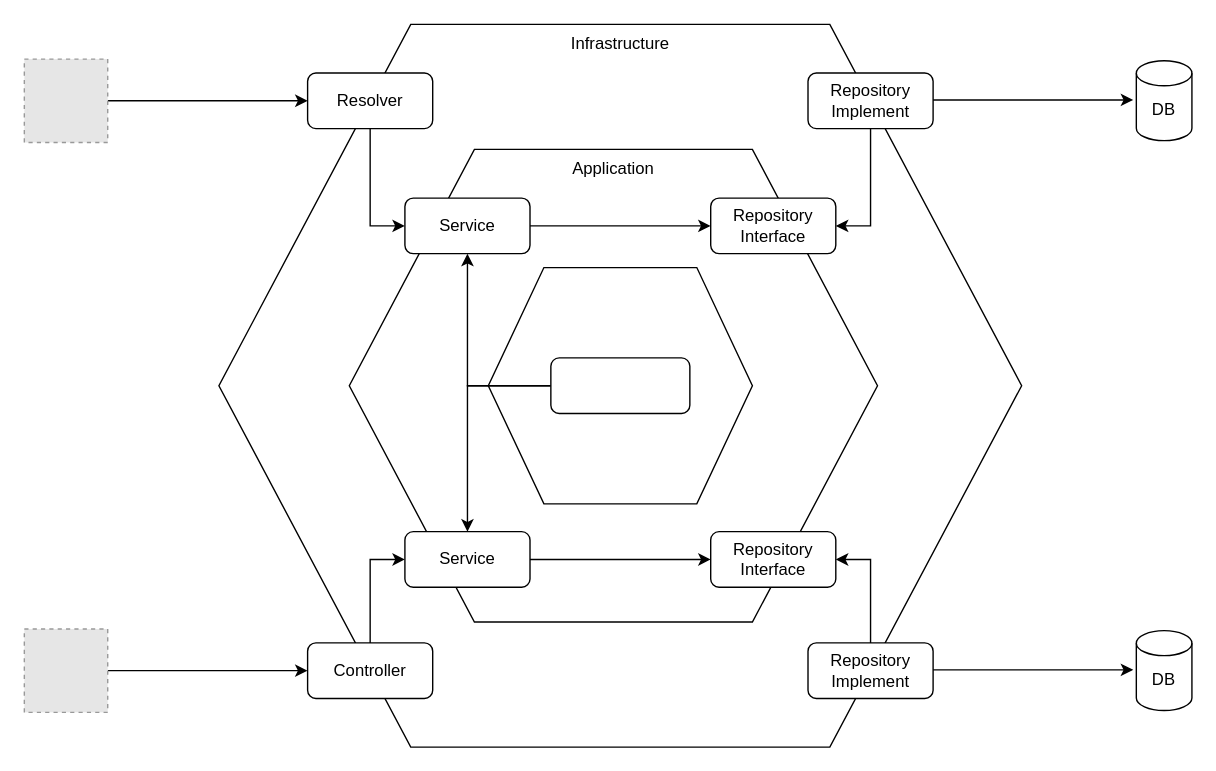
Image size: 1216x771. Some labels were removed from this diagram. Grey dashed boxes stand in for pictures. Each missing label, with the box of its shape:
Domain Business Logic: (487, 266, 752, 504)
Model: (549, 357, 690, 414)
